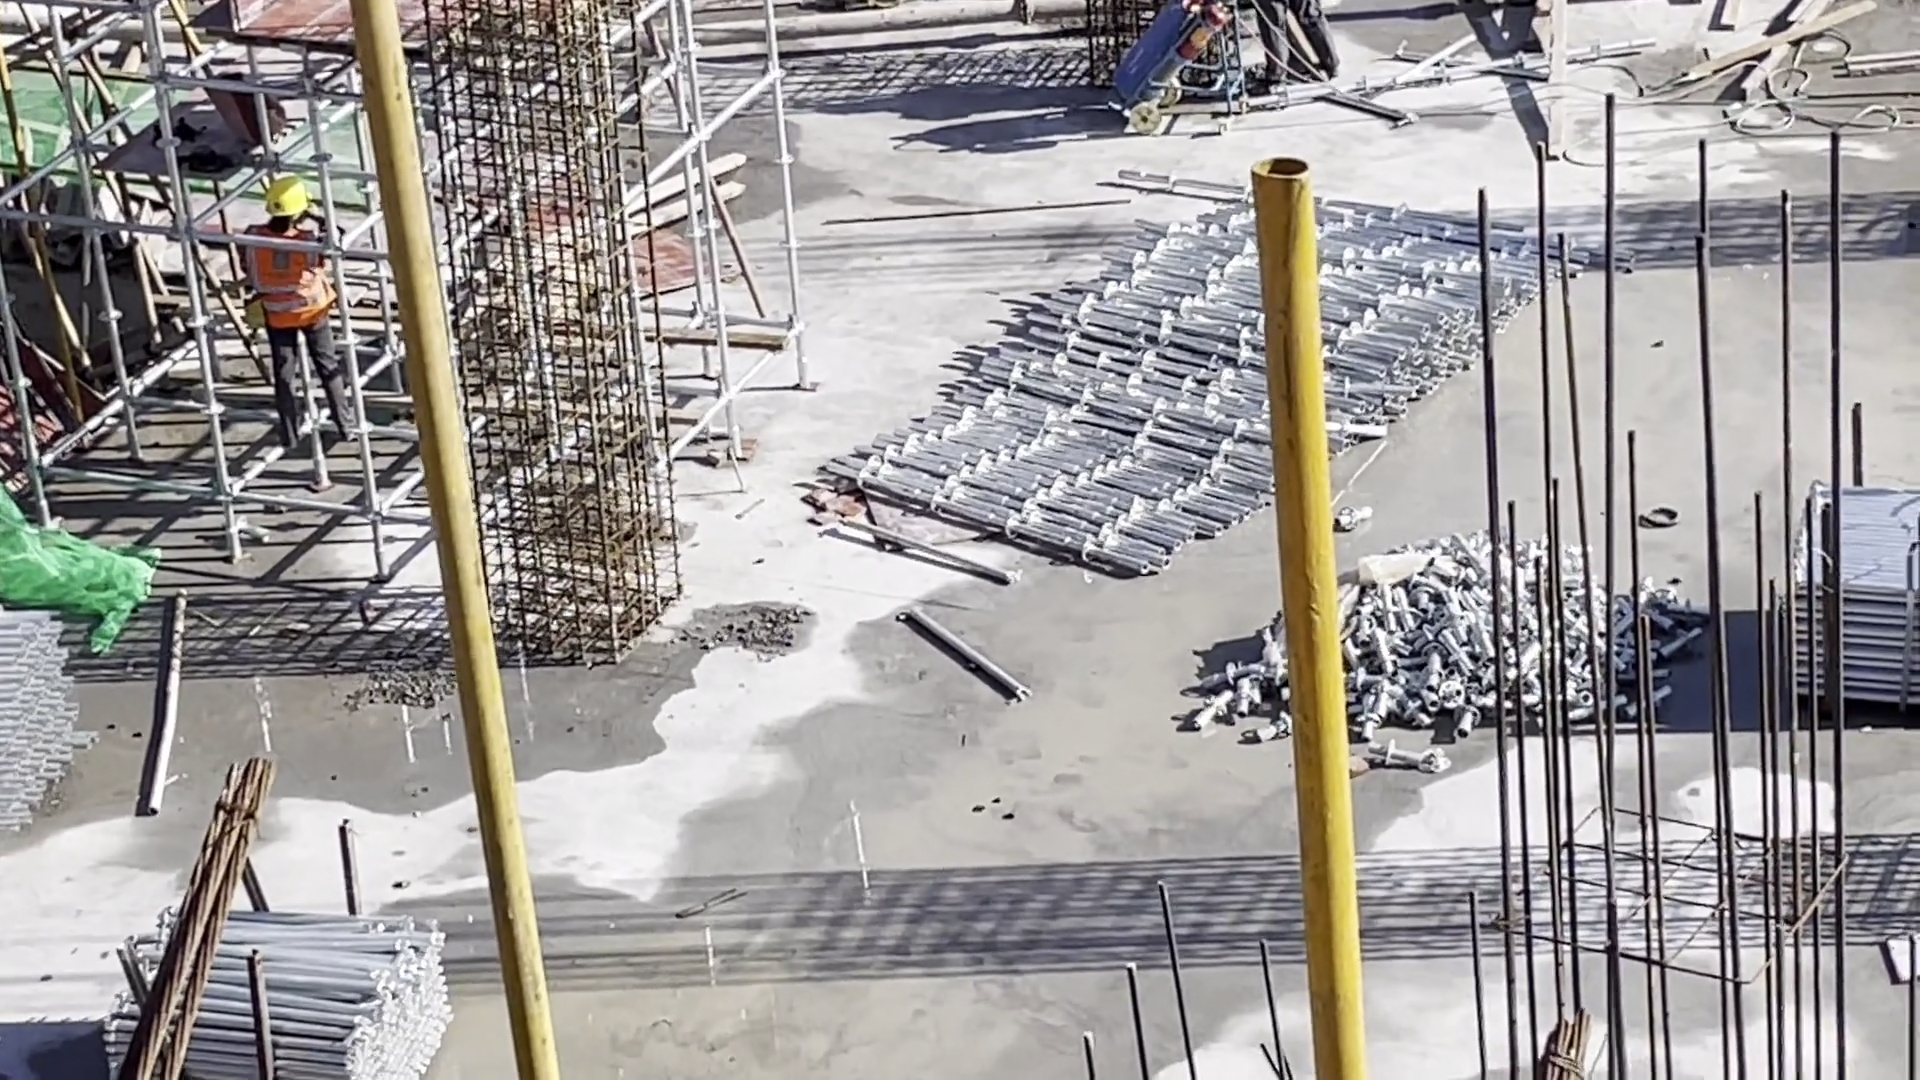helmet: (266, 184, 311, 224)
person: (237, 183, 369, 452), (1254, 2, 1340, 82)
scaffold: (821, 165, 1635, 572), (107, 896, 462, 1080), (1788, 478, 1918, 719)
vest: (246, 224, 340, 327)
